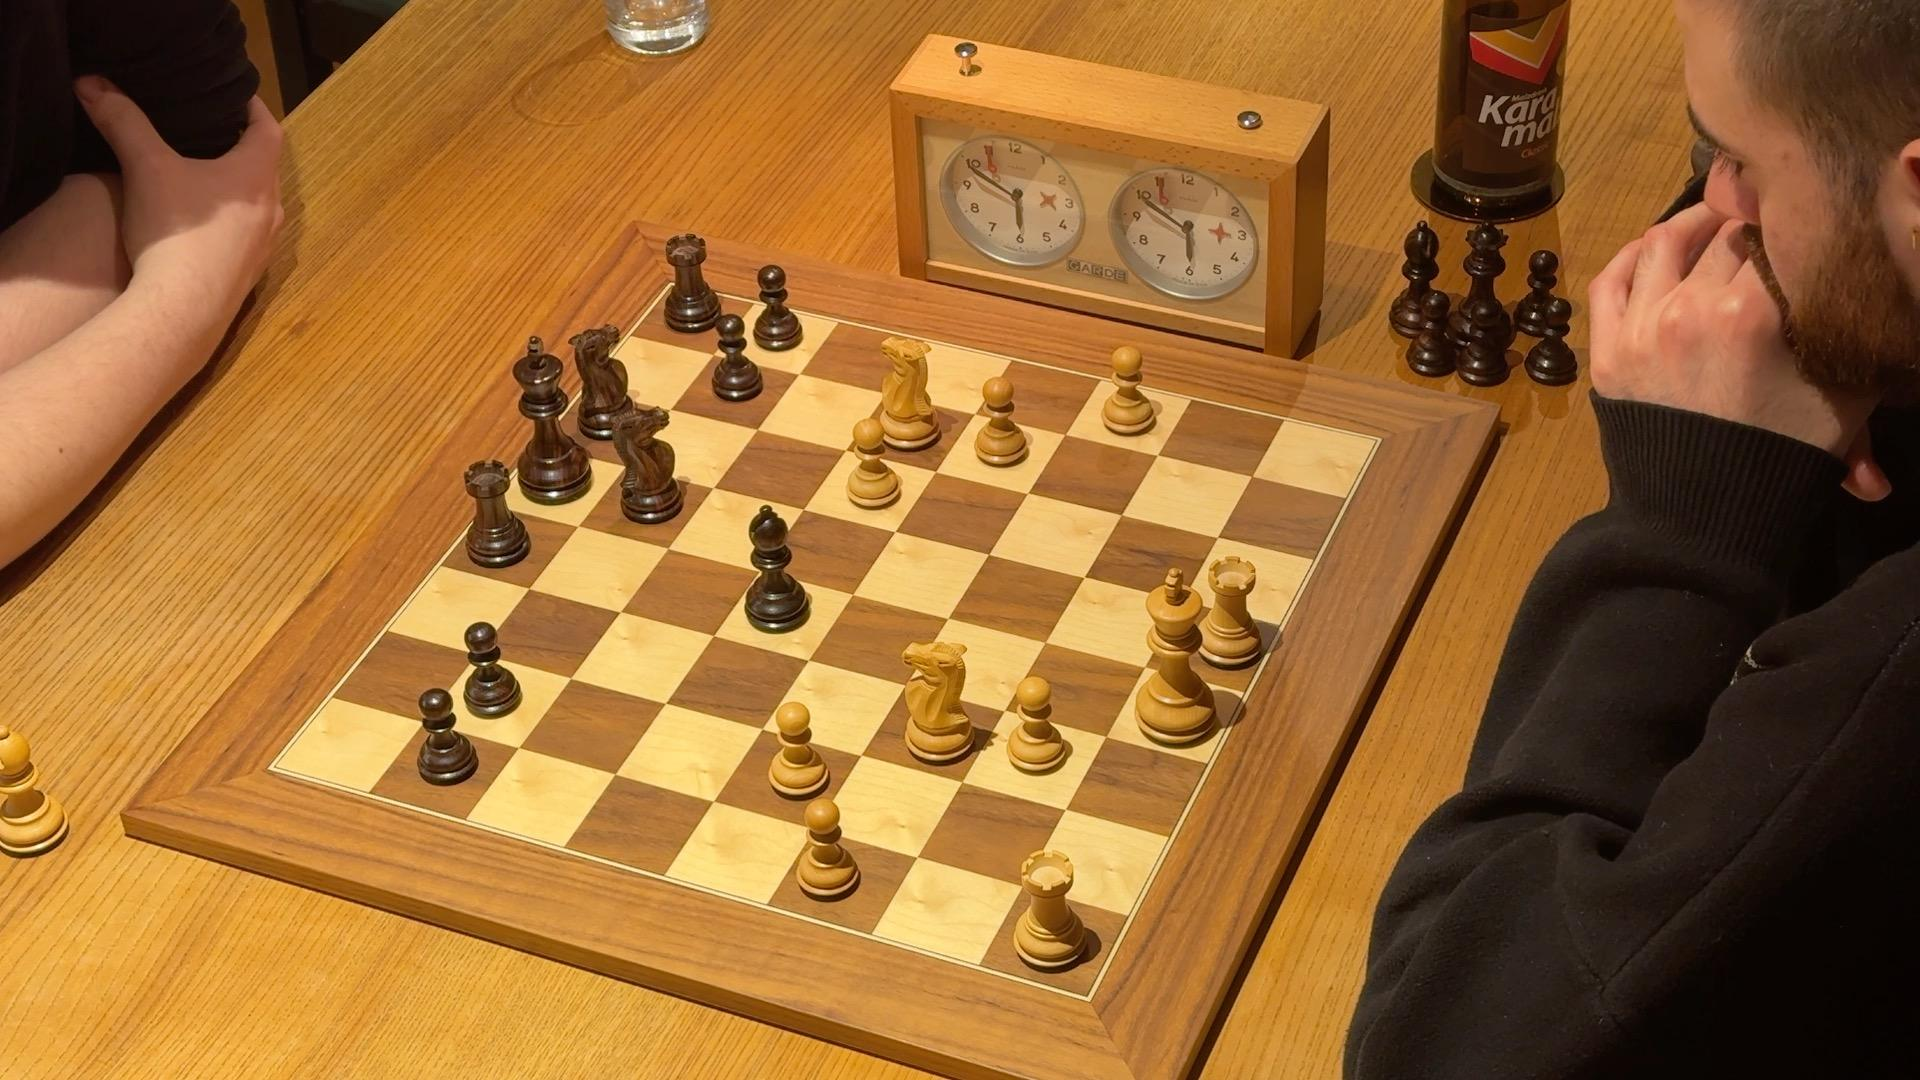Black Bishop: (741, 504, 811, 634)
Black King: (505, 334, 597, 513)
Black Knight: (607, 401, 691, 530), (571, 324, 646, 446)
Black Pawn: (458, 617, 525, 721), (415, 684, 483, 789), (752, 260, 808, 355), (711, 310, 767, 404)
Black Rook: (463, 458, 535, 574), (662, 227, 731, 335)
White King: (1130, 564, 1222, 749)
White Knight: (894, 629, 977, 773), (869, 328, 945, 458)
White Pawn: (790, 789, 864, 905), (761, 695, 832, 804), (1004, 671, 1073, 779), (840, 411, 909, 516), (967, 377, 1031, 480), (1100, 340, 1162, 442)
White Rook: (1011, 843, 1093, 973), (1193, 553, 1265, 669)
